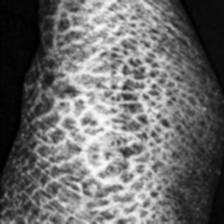Non-Cancerous Skin Condition: (2, 0, 196, 224)
